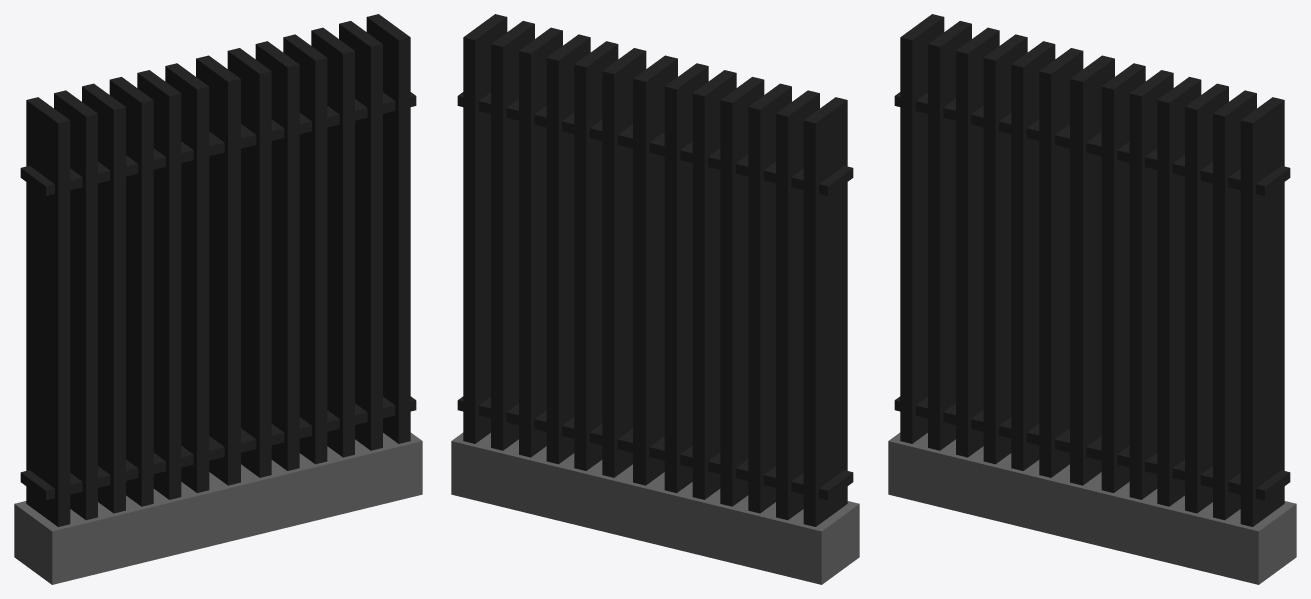
3 views of the same model, side by side, from view 1: azimuth 30°, elevation 25°; view 2: azimuth 150°, elevation 25°; view 3: azimuth 330°, elevation 25° (orthographic).
Visible parts, largest first — view 1: Fence A 1; view 2: Fence A 1; view 3: Fence A 1.
Boxes of the visible parts, <box> form: Fence A 1: <box>14,14,422,584</box>; Fence A 1: <box>451,14,859,584</box>; Fence A 1: <box>888,14,1296,584</box>.
Bounding box in the file's own units: 2 × 2.36 × 0.3538.
1 material, 1 textured.
